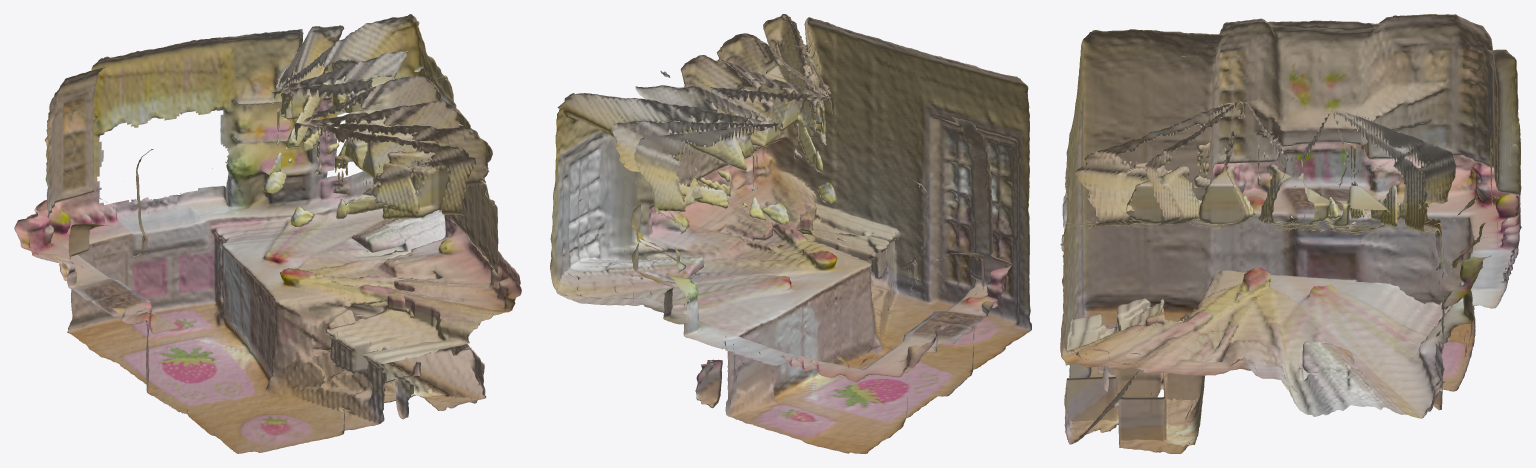
Rendered from berry-dream-kitchen-1-1-pano_collider.glb.
3 views of the same model, side by side, from view 1: azimuth 30°, elevation 25°; view 2: azimuth 150°, elevation 25°; view 3: azimuth 270°, elevation 25° (orthographic). The views are drawn at different scales.
Visible parts, largest first — view 1: world; view 2: world; view 3: world.
Boxes of the visible parts, x1,y1,x2,y2 form: world: (14, 14, 521, 453); world: (550, 14, 1031, 453); world: (1060, 14, 1521, 453).
Size of the model in its own units: 4.42 by 2.89 by 4.02.
